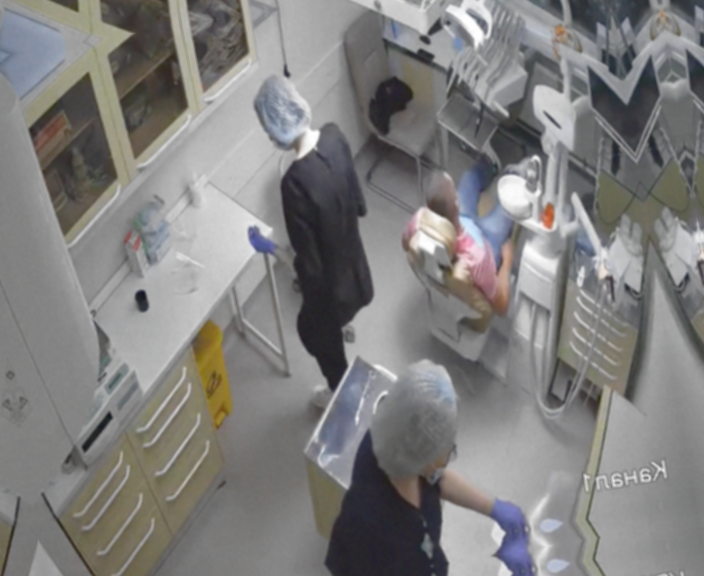Patient: (390, 157, 560, 370)
